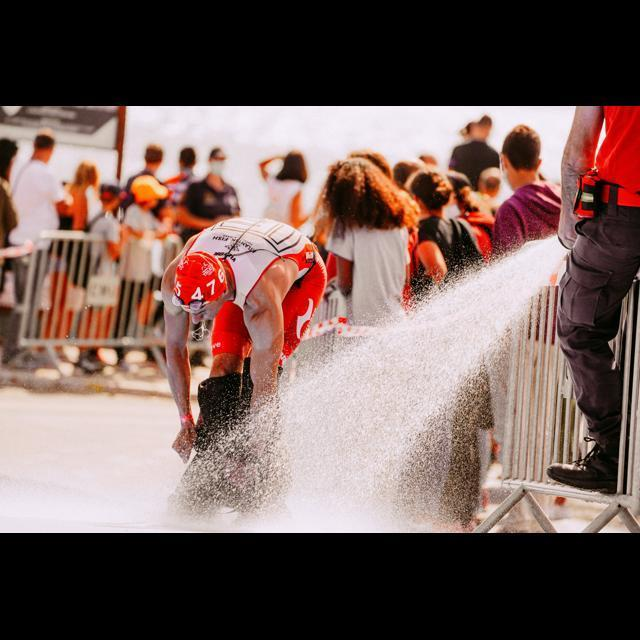Oculos: (172, 294, 206, 313)
Pessoa: (162, 218, 325, 510), (547, 106, 639, 492), (323, 158, 417, 325), (408, 169, 481, 296), (493, 125, 560, 254), (8, 129, 70, 245), (177, 147, 239, 241), (446, 171, 494, 260), (449, 115, 499, 190), (259, 150, 307, 227), (60, 161, 101, 231), (122, 144, 163, 211), (164, 146, 196, 206), (0, 138, 17, 248), (478, 167, 501, 216)
